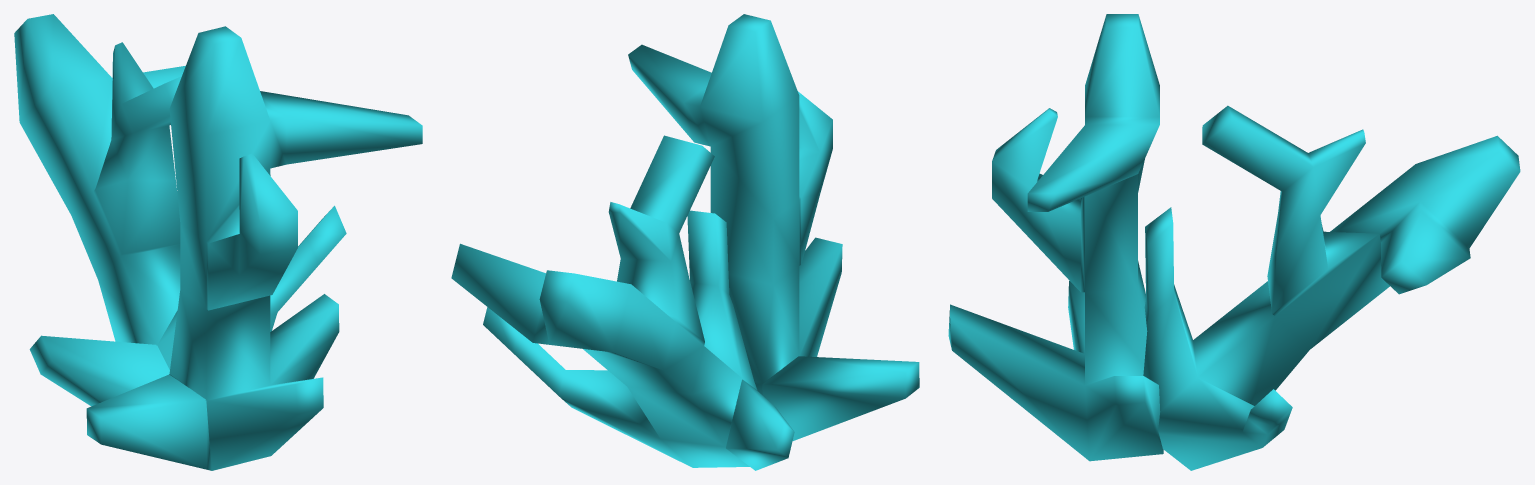
3 views of the same model, side by side, from view 1: azimuth 30°, elevation 25°; view 2: azimuth 150°, elevation 25°; view 3: azimuth 270°, elevation 25° (orthographic). The views are drawn at different scales.
Visible parts, largest first — view 1: Cube; view 2: Cube; view 3: Cube.
Boxes of the visible parts, x1,y1,x2,y2 form: Cube: [14, 14, 422, 470]; Cube: [451, 14, 919, 470]; Cube: [948, 14, 1520, 470].
Bounding box in the file's own units: 0.6125 × 0.7539 × 0.8914.
